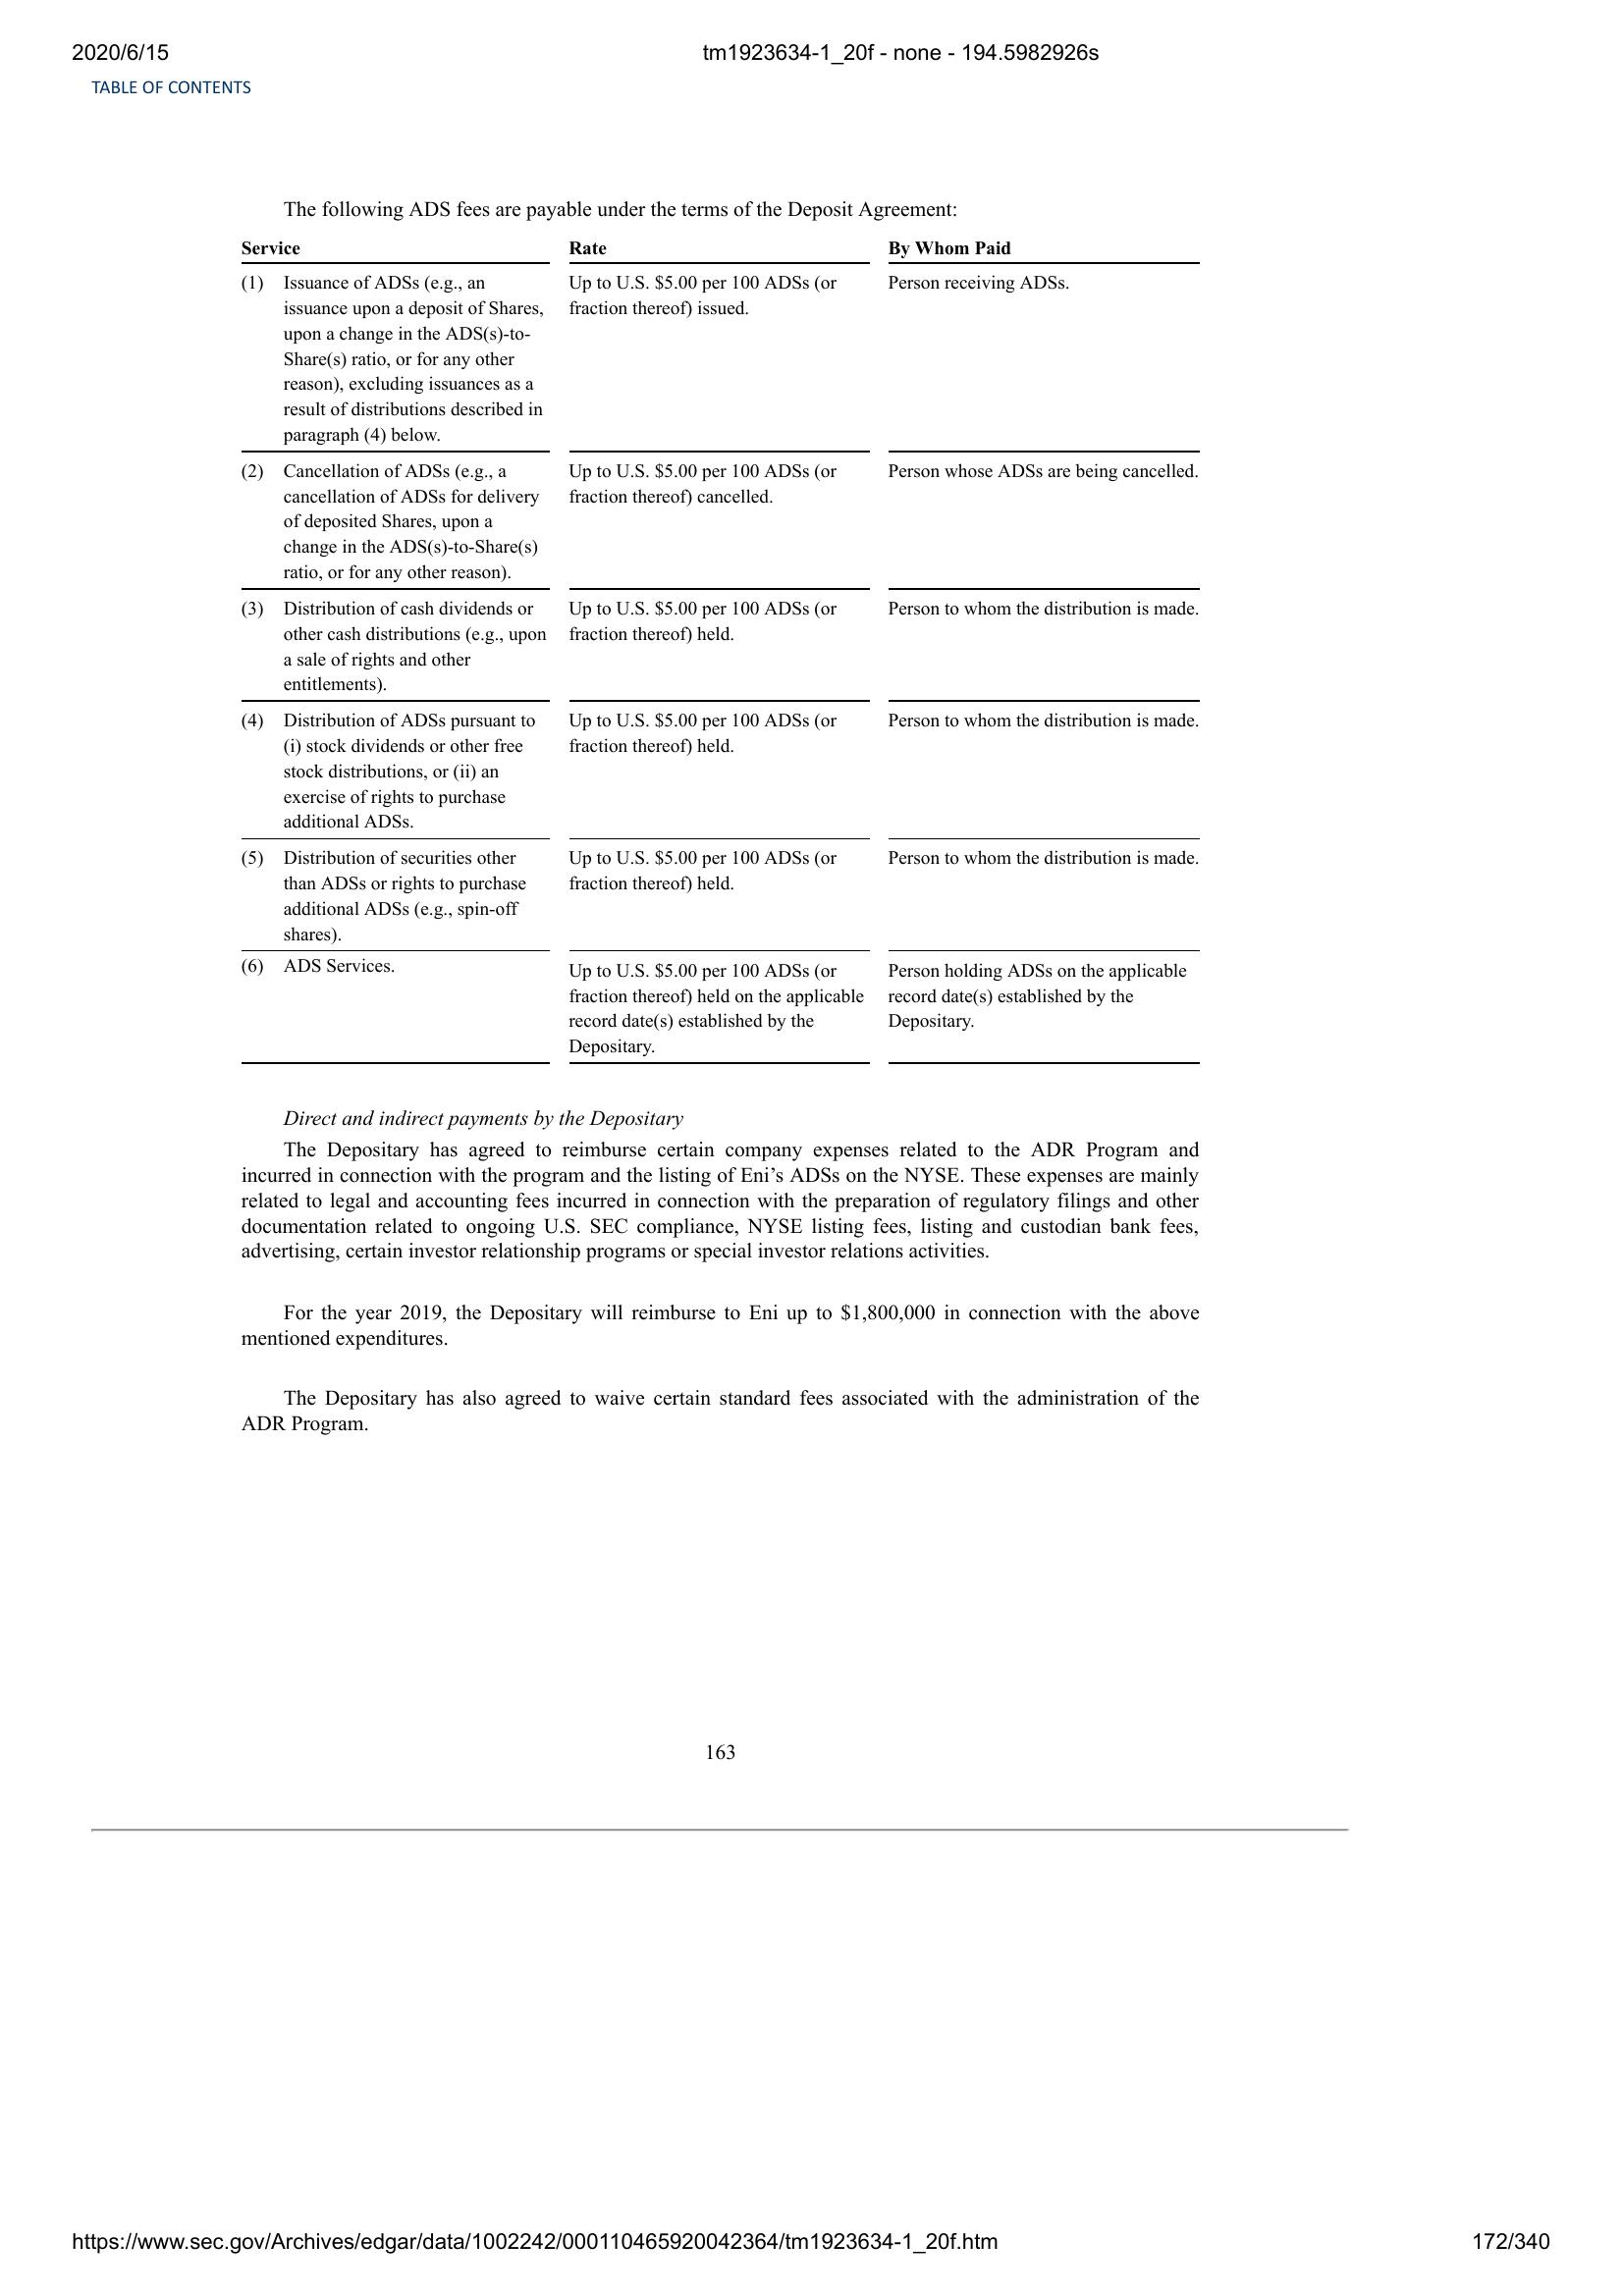table: (234, 235, 1208, 1073)
